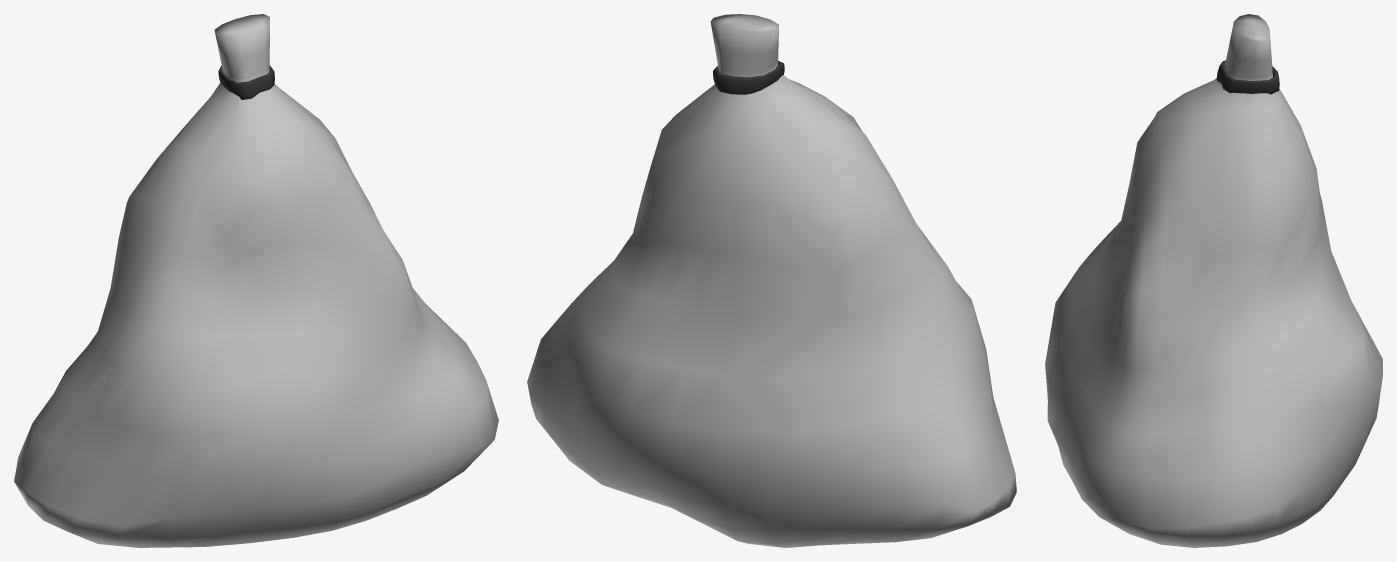
Rendered from rubbish_bag1.fbx.
The picture shows the model from 3 angles, left to right: view 1: azimuth 30°, elevation 25°; view 2: azimuth 150°, elevation 25°; view 3: azimuth 270°, elevation 25°; orthographic projection. The views are drawn at different scales.
Parts seen in each view (by area): view 1: rubbish_bag, polySurface2; view 2: rubbish_bag, polySurface2; view 3: rubbish_bag, polySurface2.
Boxes of the visible parts, left/top/right/bottom form: rubbish_bag: left=14, top=14, right=498, bottom=547; polySurface2: left=218, top=65, right=274, bottom=99; rubbish_bag: left=527, top=14, right=1016, bottom=547; polySurface2: left=713, top=60, right=784, bottom=94; rubbish_bag: left=1045, top=14, right=1382, bottom=547; polySurface2: left=1216, top=60, right=1279, bottom=94.
Size of the model in its own units: 1.95 by 1.96 by 1.3.
